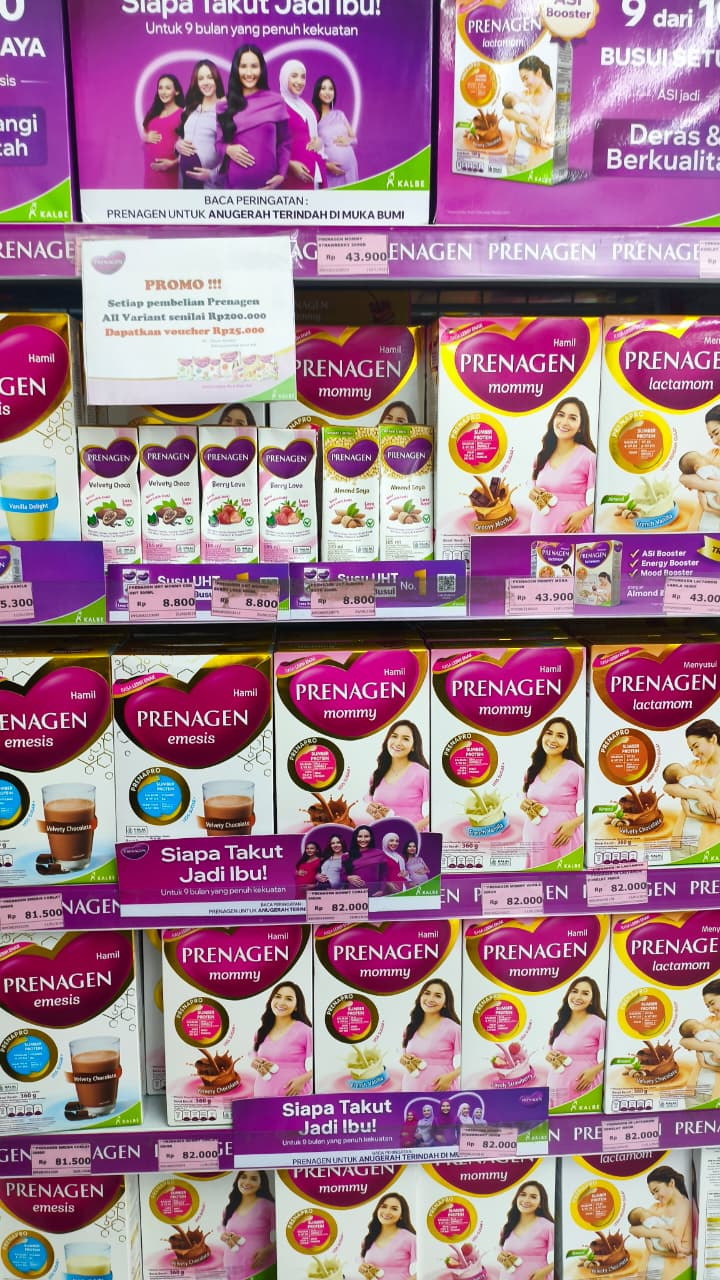Prenagen: (280, 646, 428, 794), (452, 302, 600, 450), (159, 912, 307, 1060), (458, 916, 606, 1064), (572, 628, 720, 776)
